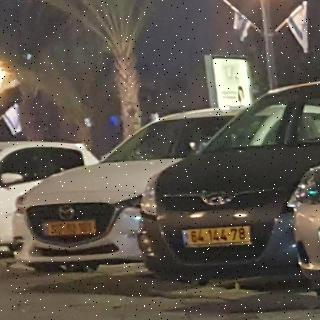LicensePlate: (188, 226, 250, 245), (48, 220, 96, 235)
